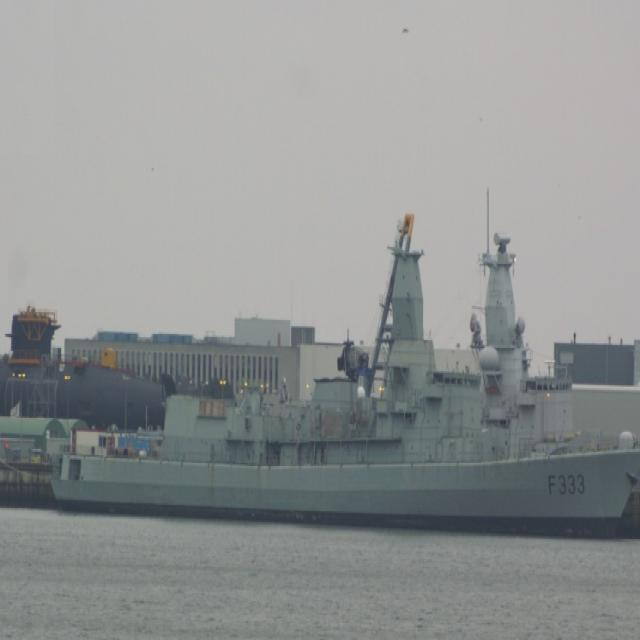Fragata: (45, 205, 640, 553)
